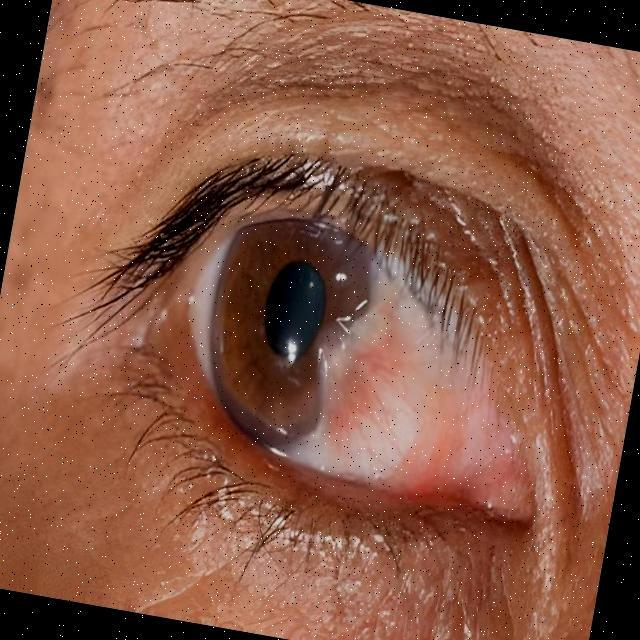Pterygium: (292, 268, 531, 500)
